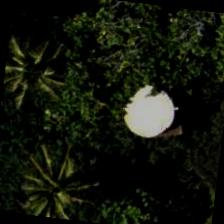Kelapa_Sawit: (0, 32, 86, 132), (3, 152, 101, 222)
